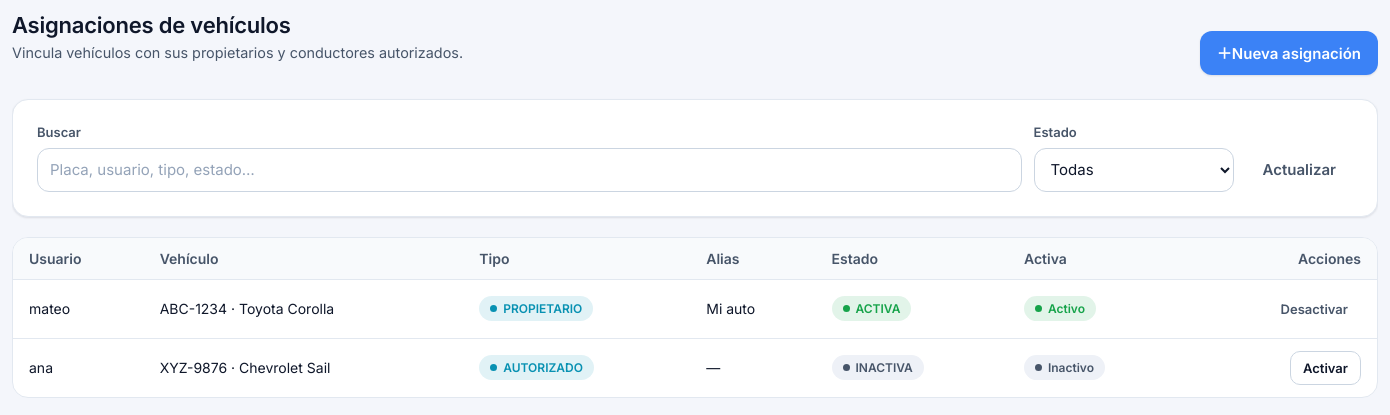
Test case: AsignacionesVehiculosPage › filtra por término de búsqueda
The width and height of the screenshot is (1390, 415).
Expected: the text "mateo" is shown, [13,279,144,338]
Type "chevrolet" into the field labelled "Buscar" at (529, 170), box [37,148,1022,192]
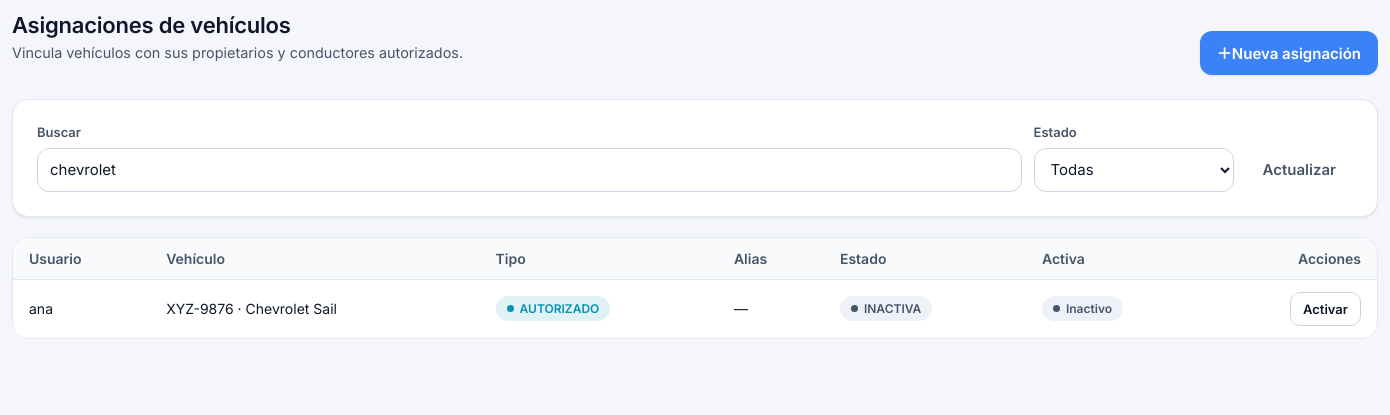
Expected: the text "ana" is shown, [13,279,150,338]
Now the text "mateo" is gone
